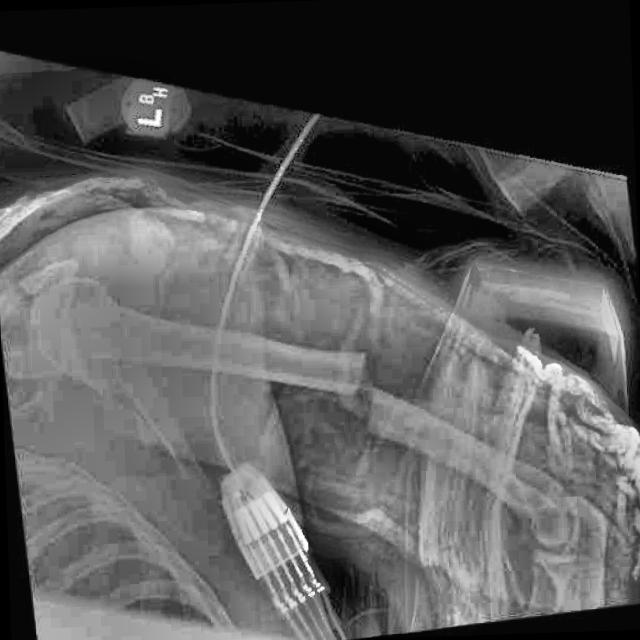humerus: (307, 311, 441, 492)
